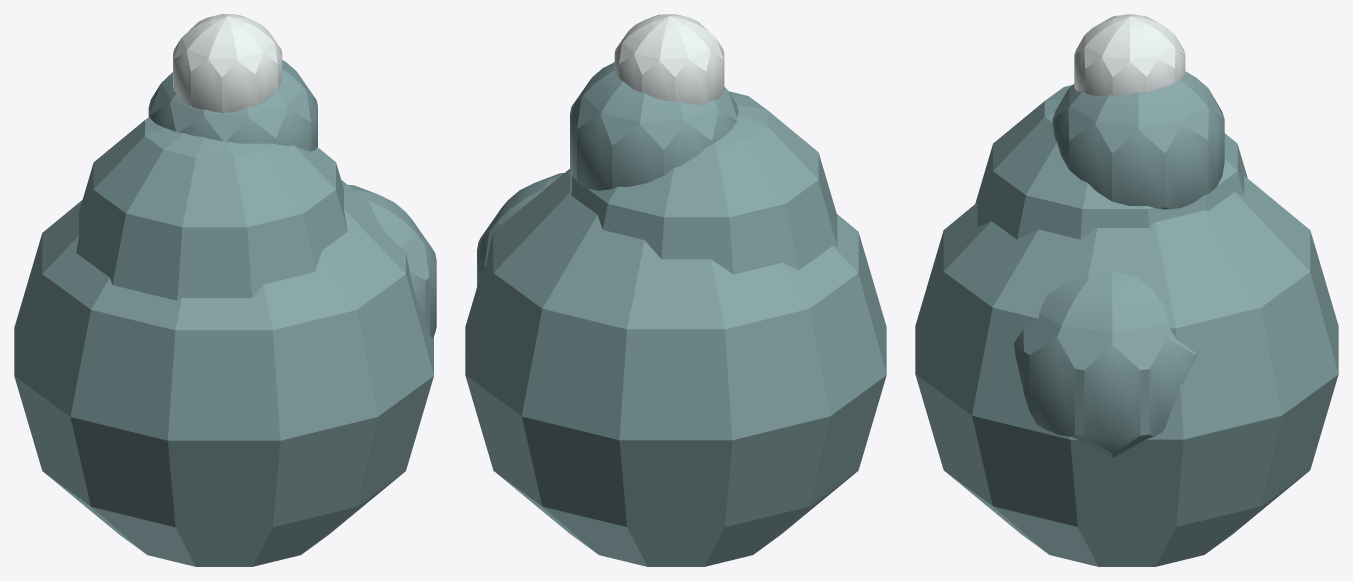
File: mountain.glb
The picture shows the model from 3 angles, left to right: view 1: azimuth 30°, elevation 25°; view 2: azimuth 150°, elevation 25°; view 3: azimuth 270°, elevation 25°; orthographic projection.
Parts seen in each view (by area): view 1: body_base; view 2: body_base; view 3: body_base.
Part boxes in pixels (x1=…): body_base: x1=14, y1=14, x2=436, y2=566; body_base: x1=465, y1=14, x2=886, y2=566; body_base: x1=915, y1=14, x2=1338, y2=566.
Size of the model in its own units: 0.9282 by 1.26 by 0.9056.
